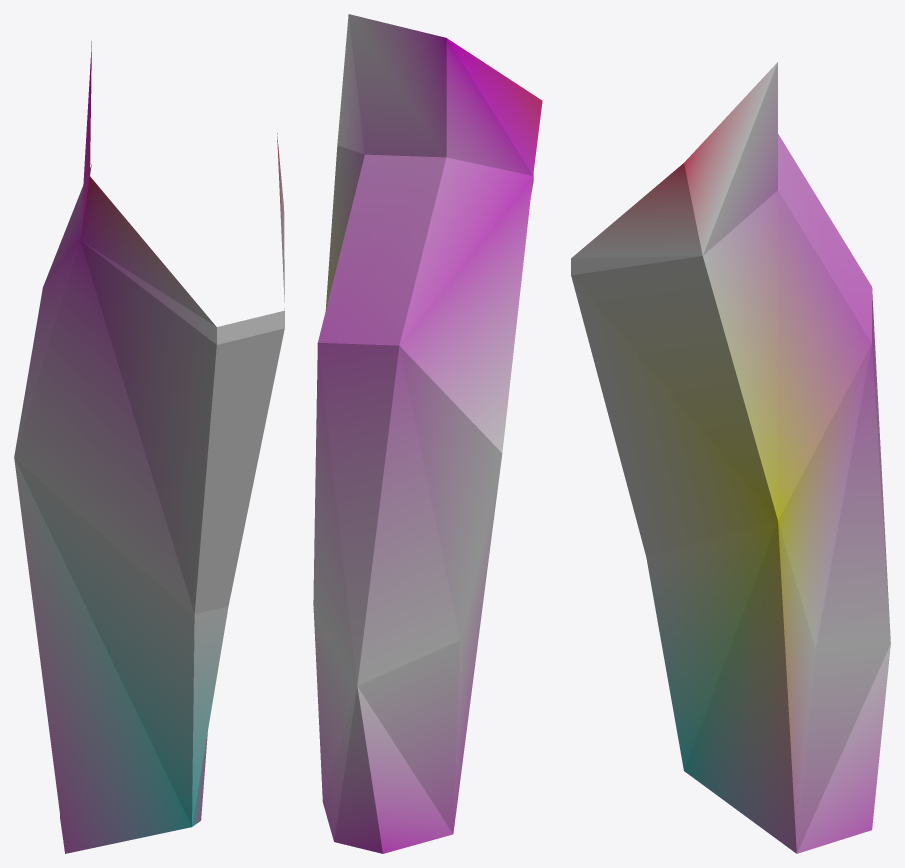
3 renders of one model, left to right at view 1: azimuth 30°, elevation 25°; view 2: azimuth 150°, elevation 25°; view 3: azimuth 270°, elevation 25°, orthographic. The views are drawn at different scales.
Visible parts, largest first — view 1: model_11BB; view 2: model_11BB; view 3: model_11BB.
Part boxes in pixels (x1,y1,x2,y2): model_11BB: (14, 41, 284, 853); model_11BB: (313, 14, 542, 853); model_11BB: (571, 62, 890, 853).
Bounding box in the file's own units: 13 × 46 × 17.
